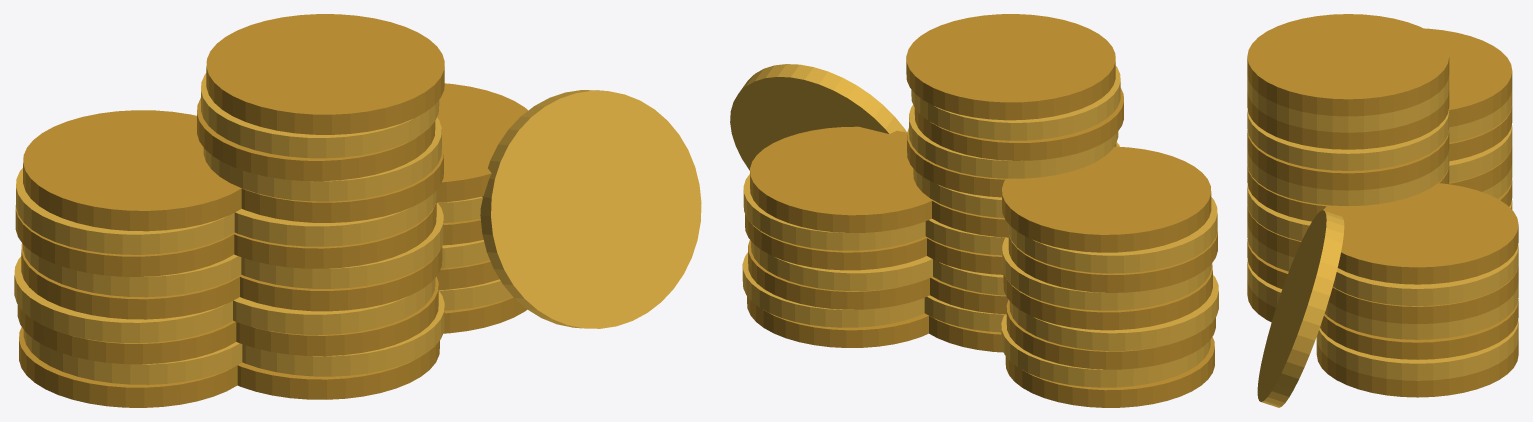
Rendered from monedas.glb.
The picture shows the model from 3 angles, left to right: view 1: azimuth 30°, elevation 25°; view 2: azimuth 150°, elevation 25°; view 3: azimuth 270°, elevation 25°; orthographic projection. The views are drawn at different scales.
Parts seen in each view (by area): view 1: Cylinder.029, Cylinder.021, Cylinder.008, Cylinder.028, Cylinder.020, Cylinder.019, Cylinder.007, Cylinder.003, Cylinder, Cylinder.018, Cylinder.004, Cylinder.006 (+18 smaller); view 2: Cylinder.021, Cylinder.008, Cylinder.028, Cylinder.029, Cylinder.007, Cylinder.003, Cylinder.020, Cylinder, Cylinder.019, Cylinder.004, Cylinder.006, Cylinder.002 (+18 smaller); view 3: Cylinder.021, Cylinder.028, Cylinder.029, Cylinder.008, Cylinder.018, Cylinder.023, Cylinder.017, Cylinder.027, Cylinder.024, Cylinder.019, Cylinder.022, Cylinder.026 (+15 smaller).
Part boxes in pixels (bbox=[...]): Cylinder.029: bbox=[480, 90, 701, 328]; Cylinder.021: bbox=[206, 14, 444, 134]; Cylinder.008: bbox=[23, 110, 241, 231]; Cylinder.028: bbox=[436, 83, 527, 202]; Cylinder.020: bbox=[201, 73, 439, 158]; Cylinder.019: bbox=[197, 98, 435, 181]; Cylinder.007: bbox=[16, 168, 234, 254]; Cylinder.003: bbox=[14, 256, 232, 343]; Cylinder: bbox=[19, 327, 237, 407]; Cylinder.018: bbox=[203, 117, 441, 201]; Cylinder.004: bbox=[21, 243, 241, 319]; Cylinder.006: bbox=[15, 205, 235, 276]; Cylinder.021: bbox=[906, 14, 1115, 120]; Cylinder.008: bbox=[1002, 146, 1211, 252]; Cylinder.028: bbox=[750, 126, 932, 232]; Cylinder.029: bbox=[730, 64, 906, 170]; Cylinder.007: bbox=[1008, 197, 1217, 273]; Cylinder.003: bbox=[1009, 275, 1218, 350]; Cylinder.020: bbox=[911, 66, 1120, 140]; Cylinder: bbox=[1005, 337, 1214, 407]; Cylinder.019: bbox=[914, 88, 1123, 160]; Cylinder.004: bbox=[1003, 263, 1212, 330]; Cylinder.006: bbox=[1008, 232, 1217, 292]; Cylinder.002: bbox=[1006, 299, 1215, 369]; Cylinder.021: bbox=[1247, 14, 1449, 116]; Cylinder.028: bbox=[1323, 183, 1518, 284]; Cylinder.029: bbox=[1257, 210, 1344, 407]; Cylinder.008: bbox=[1424, 28, 1512, 127]; Cylinder.018: bbox=[1247, 109, 1449, 170]; Cylinder.023: bbox=[1316, 320, 1518, 380]; Cylinder.017: bbox=[1247, 130, 1449, 190]; Cylinder.027: bbox=[1333, 245, 1518, 306]; Cylinder.024: bbox=[1320, 299, 1518, 359]; Cylinder.019: bbox=[1247, 91, 1449, 149]; Cylinder.022: bbox=[1316, 339, 1518, 397]; Cylinder.026: bbox=[1328, 264, 1518, 324].
Bounding box in the file's own units: 1.85 × 0.851 × 0.86.
